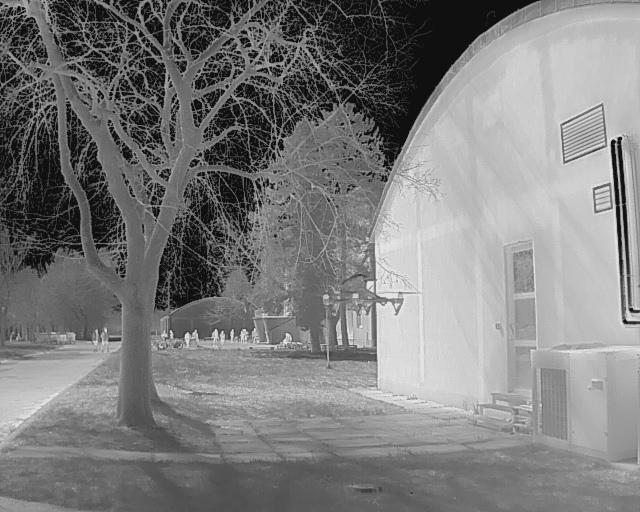drone: (303, 261, 426, 331)
